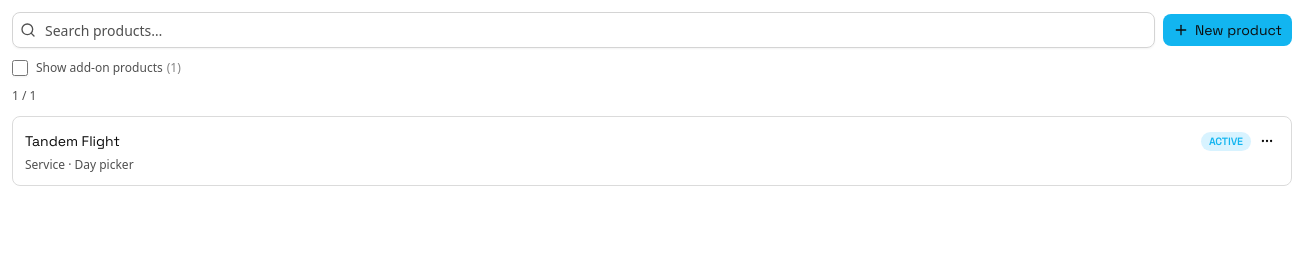
Test: ProductsList — addon_only visibility (landr-u34k) › hides addon_only rows by default and shows them after the toggle is enabled
Expected: the text "Tandem Flight" is shown, [25, 132, 120, 150]
Expected: the text "video package" is not shown
# Flip the toggle — the addon_only row appears.
Click the checkbox labelled "Show add-on products(1)" at (20, 68), box [12, 60, 28, 76]
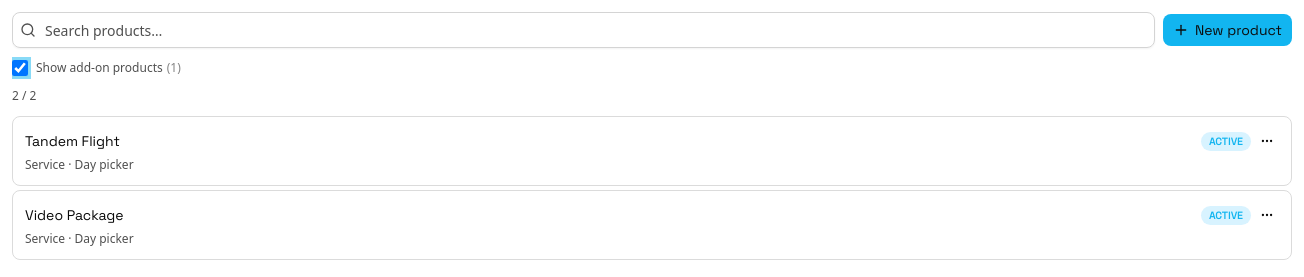
Expected: the text "Tandem Flight" is shown, [25, 132, 120, 150]
Result: the text "Video Package" is shown at [25, 206, 124, 224]
